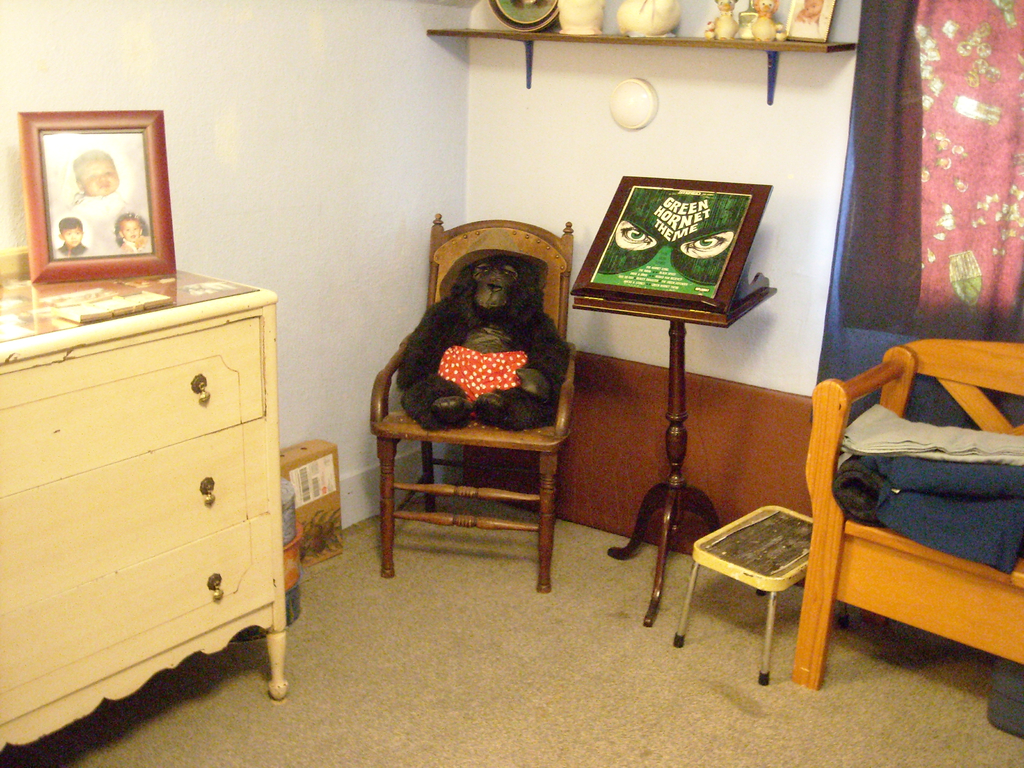cabinet door: (20, 434, 259, 537), (33, 545, 265, 614), (2, 380, 257, 431)
handle: (194, 474, 222, 516), (187, 373, 216, 406), (202, 574, 226, 603)
